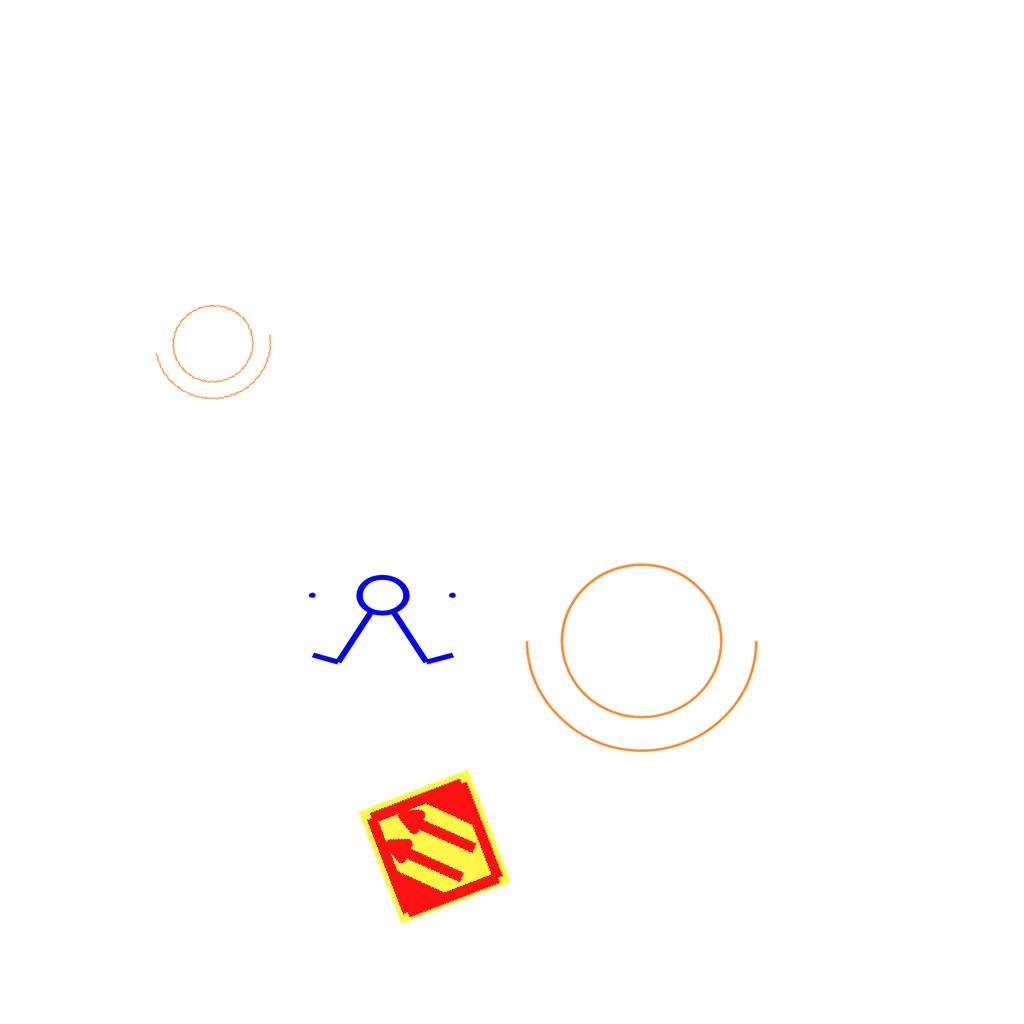ASR_Ansaugrauchmelder: (353, 765, 516, 928)
Scheinwerfer_fuer_Alarmbeleuchtung: (516, 538, 780, 763), (143, 282, 291, 414)
Serienschalter: (300, 573, 468, 669)
